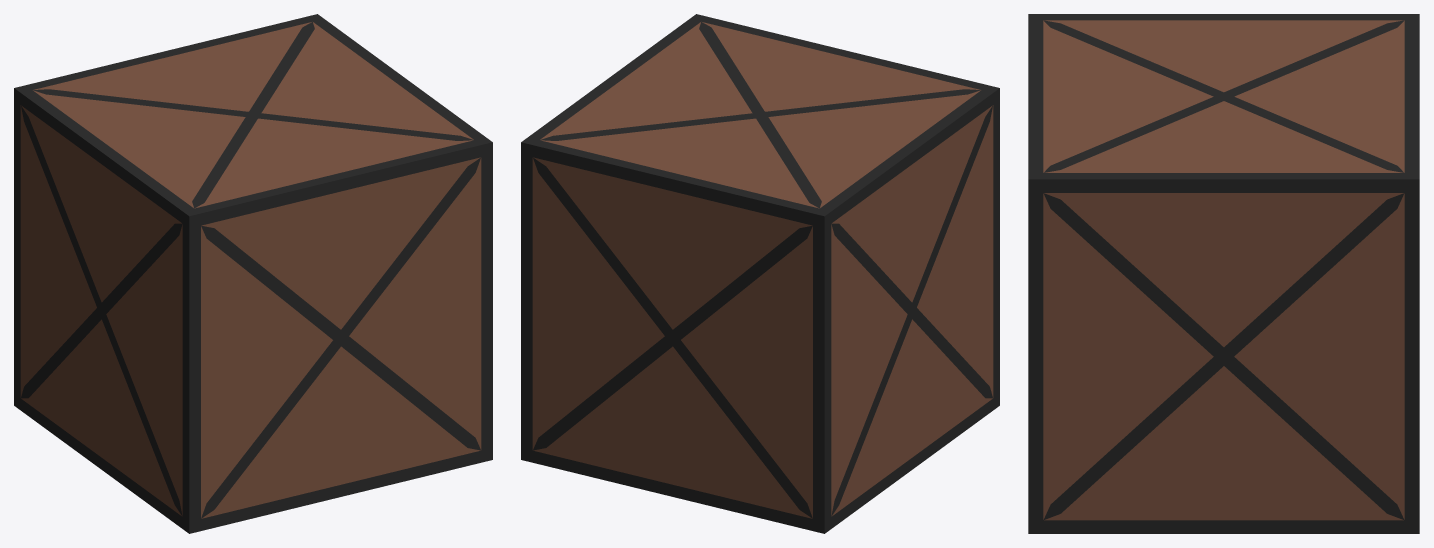
File: X-tile.fbx
3 renders of one model, left to right at view 1: azimuth 30°, elevation 25°; view 2: azimuth 150°, elevation 25°; view 3: azimuth 270°, elevation 25°, orthographic. The views are drawn at different scales.
Parts seen in each view (by area): view 1: Cube; view 2: Cube; view 3: Cube.
Part boxes in pixels (bbox=[...]): Cube: bbox=[14, 14, 492, 533]; Cube: bbox=[521, 14, 999, 533]; Cube: bbox=[1028, 14, 1419, 533].
Size of the model in its own units: 200 by 200 by 200.
